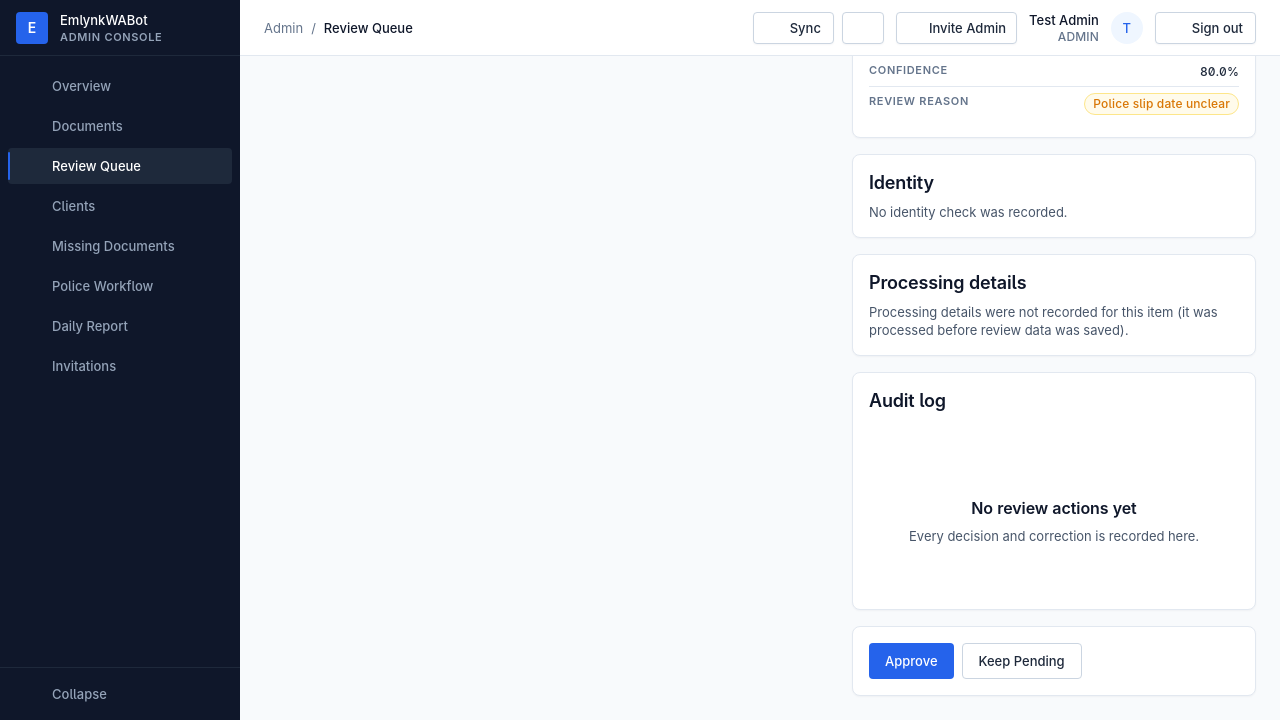
Test: approving a police slip › the date is required when OCR could not read it; entered date is sent and shown
(page scrolled)
Click the button "Approve".
click(911, 661)  # box [869,643,954,679]
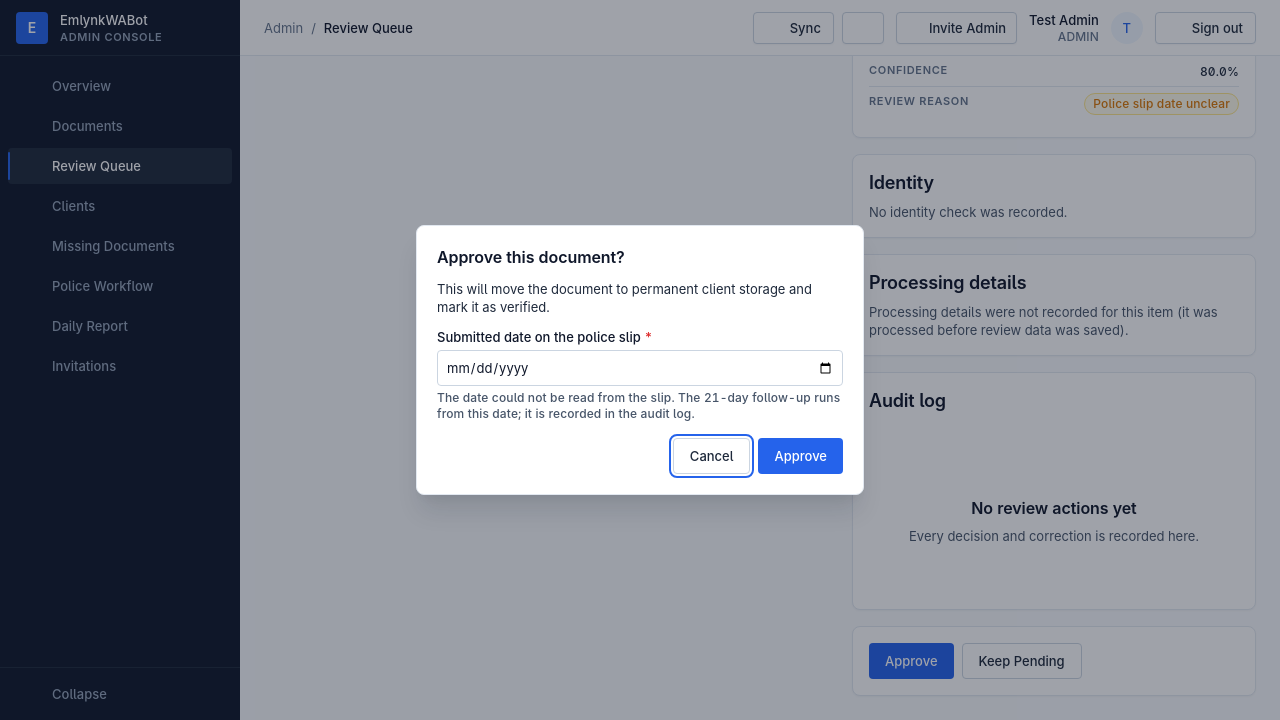
Click the button "Approve".
click(801, 456)  # box [758,438,843,474]
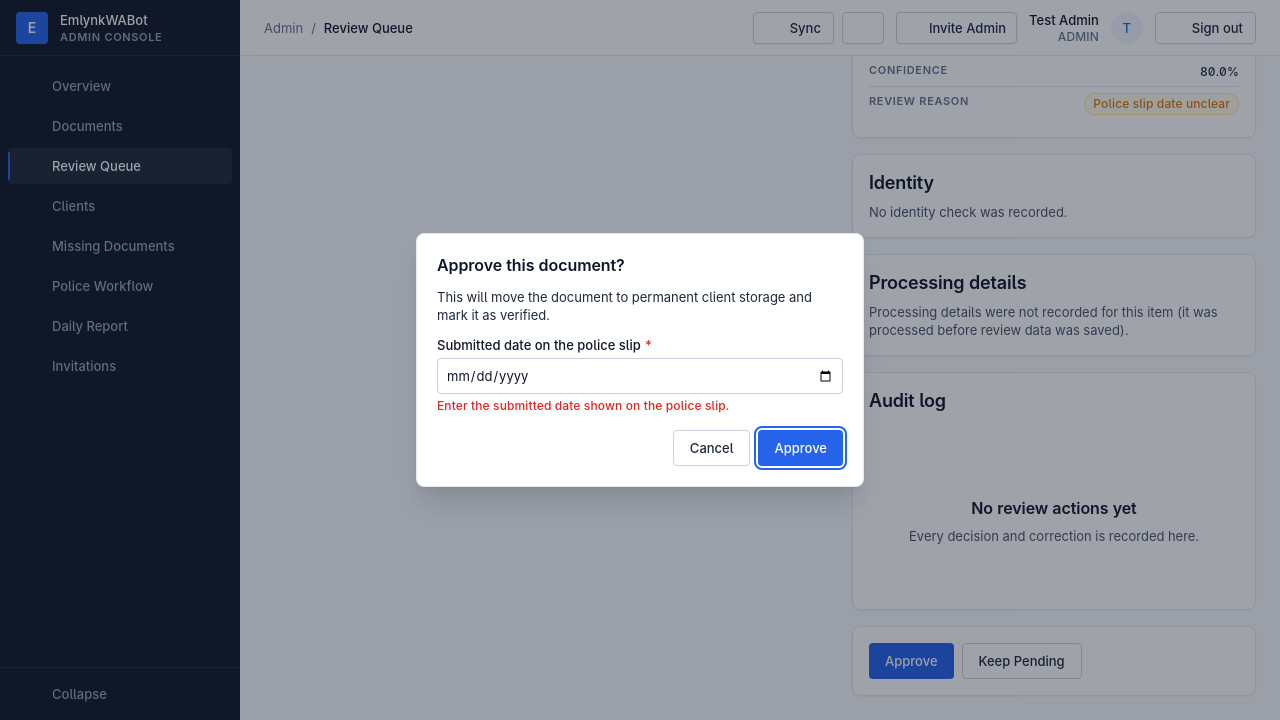
Expected: the text "Enter the submitted date shown on the police slip." is shown, [437,398,729,413]
Type "2026-09-10" into the date field labelled "Submitted date on the police slip *".
click(640, 376); type("2026-09-10")  # box [437,358,843,394]
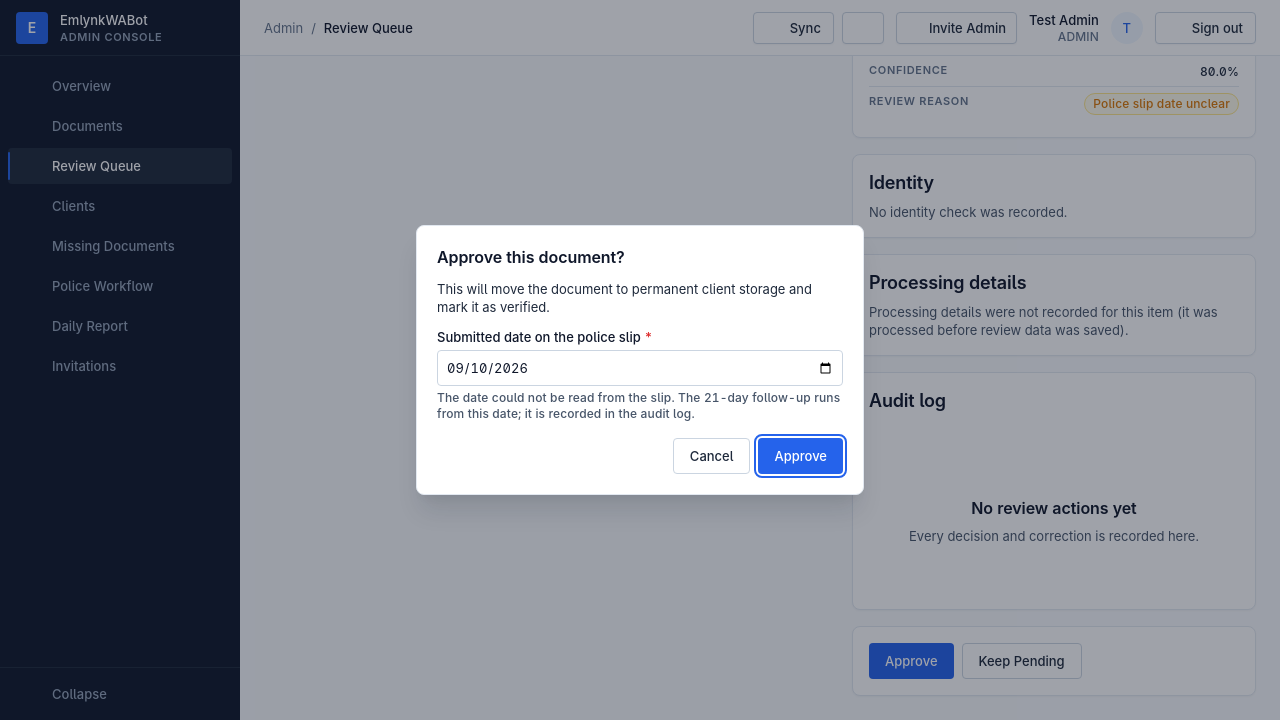
Click the button "Approve".
click(801, 456)  # box [758,438,843,474]
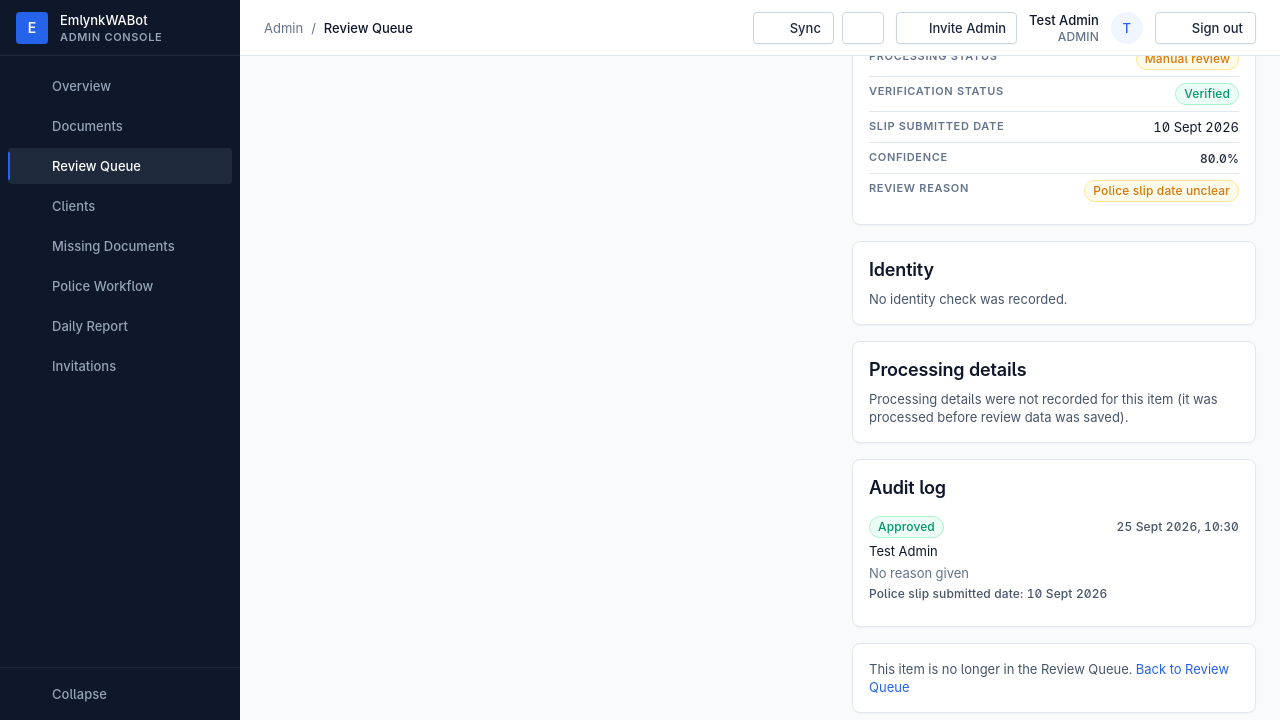
Expected: the text "Police slip submitted date: 10 Sept 2026" is shown, [869,586,1108,601]
